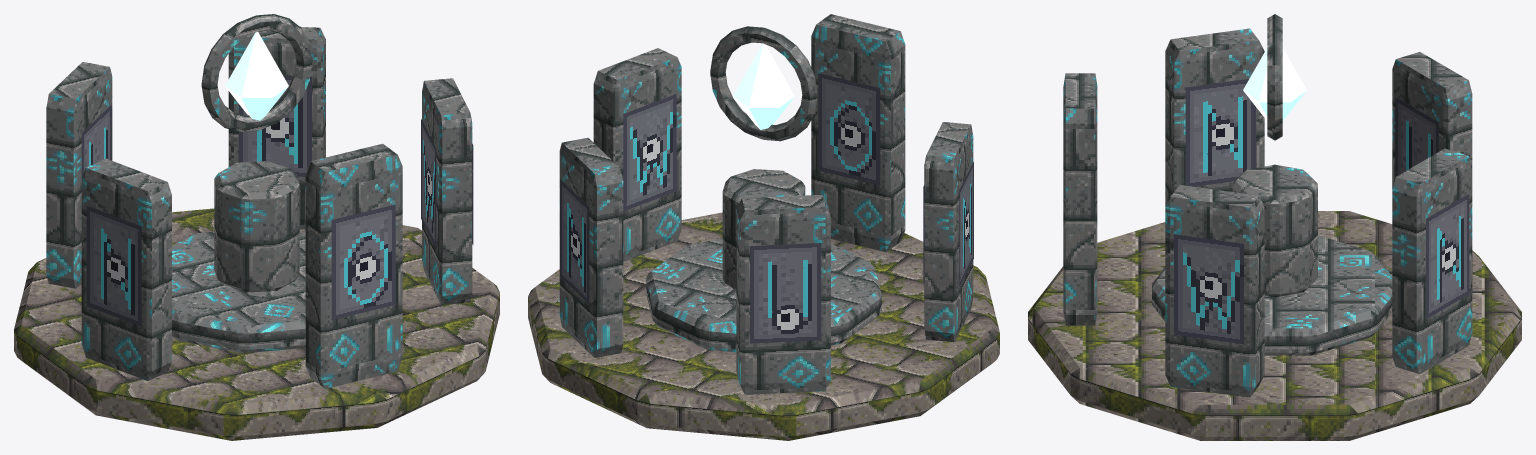
The model's file is altar.glb.
3 renders of one model, left to right at view 1: azimuth 30°, elevation 25°; view 2: azimuth 150°, elevation 25°; view 3: azimuth 270°, elevation 25°, orthographic. The views are drawn at different scales.
Parts seen in each view (by area): view 1: Base, Tablet2, Tablet1, Step, Pedestal, Tablet3, Tablet0, Glyph2o, Glyph1o, EyeRing, Tablet4, Glyph4i (+3 smaller); view 2: Base, Tablet2, Tablet0, Step, Tablet4, Tablet3, Tablet1, Glyph0o, Glyph2i, Glyph3i, EyeRing, Pedestal (+3 smaller); view 3: Base, Tablet3, Tablet4, Step, Tablet2, Tablet1, Pedestal, Glyph3o, Glyph1i, Tablet0, Glyph4o, Glyph0i (+2 smaller).
Part boxes in pixels (x1,y1,x2,y2): Base: (14, 208, 499, 440); Tablet2: (305, 143, 402, 388); Tablet1: (81, 158, 171, 380); Step: (172, 231, 305, 353); Pedestal: (214, 161, 299, 292); Tablet3: (422, 78, 472, 304); Tablet0: (46, 62, 112, 288); Glyph2o: (331, 204, 395, 320); Glyph1o: (86, 206, 141, 326); EyeRing: (201, 14, 312, 132); Tablet4: (228, 26, 325, 229); Glyph4i: (238, 75, 311, 176); Base: (528, 212, 999, 440); Tablet2: (811, 14, 905, 251); Tablet0: (736, 194, 830, 394); Step: (646, 238, 881, 352); Tablet4: (559, 137, 623, 357); Tablet3: (593, 48, 681, 261); Tablet1: (924, 122, 973, 341); Glyph0o: (750, 243, 821, 343); Glyph2i: (818, 73, 880, 185); Glyph3i: (623, 94, 676, 211); EyeRing: (710, 26, 817, 141); Pedestal: (722, 169, 805, 290); Base: (1028, 211, 1521, 440); Tablet3: (1165, 185, 1264, 397); Tablet4: (1392, 148, 1472, 373); Step: (1152, 235, 1392, 355); Tablet2: (1063, 73, 1097, 325); Tablet1: (1165, 28, 1264, 206); Pedestal: (1232, 164, 1317, 297); Glyph3o: (1174, 234, 1243, 344); Glyph1i: (1185, 79, 1255, 186); Tablet0: (1392, 52, 1472, 189); Glyph4o: (1426, 194, 1469, 318); Glyph0i: (1395, 97, 1438, 177).
Bounding box in the file's own units: 4.76 × 3.59 × 4.95.
7 materials, 6 textured.
